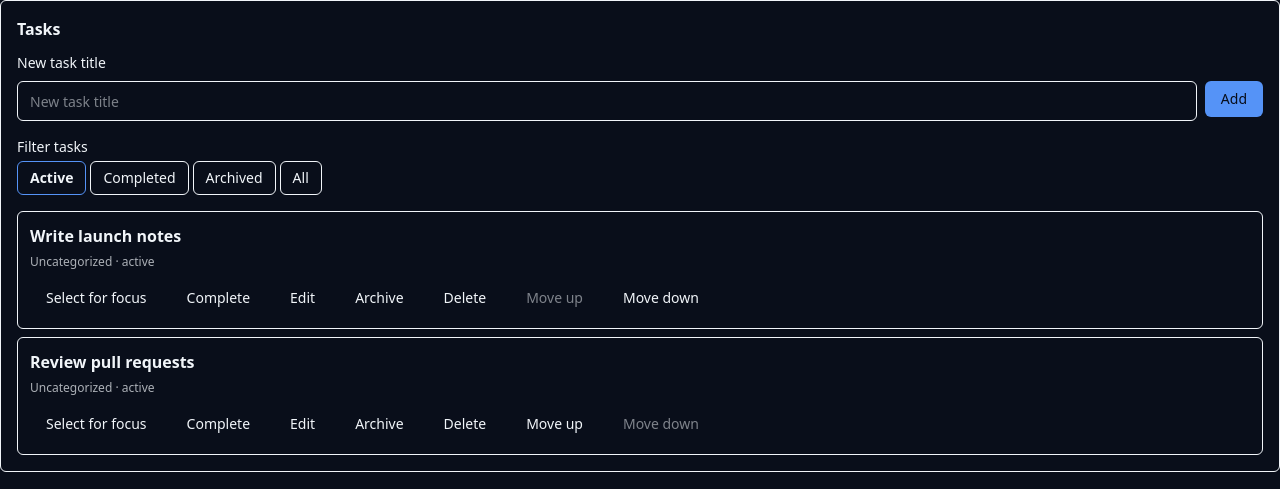
it: <TaskPanel /> row actions (slice 4) › deletes only after an explicit inline confirm
Expected: the list item "Write launch notes" is shown, x1=30 y1=225 x2=181 y2=247
Step 1. Click the button "Delete" below "Write launch notes" → (465, 298), box x1=428 y1=280 x2=502 y2=316
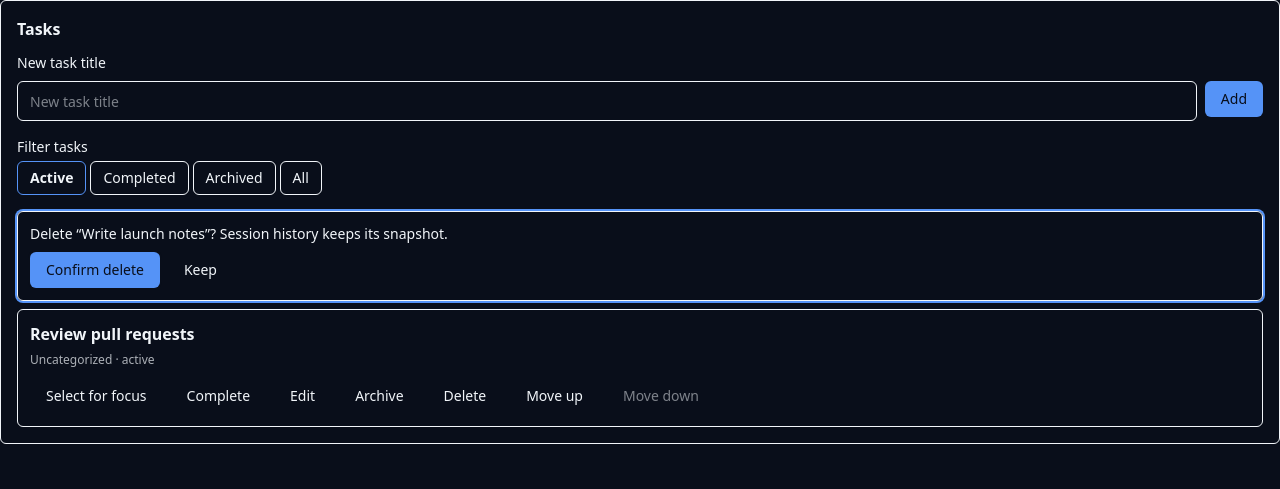
Step 2. Click the button "Confirm delete" → (95, 270), box x1=30 y1=252 x2=160 y2=288
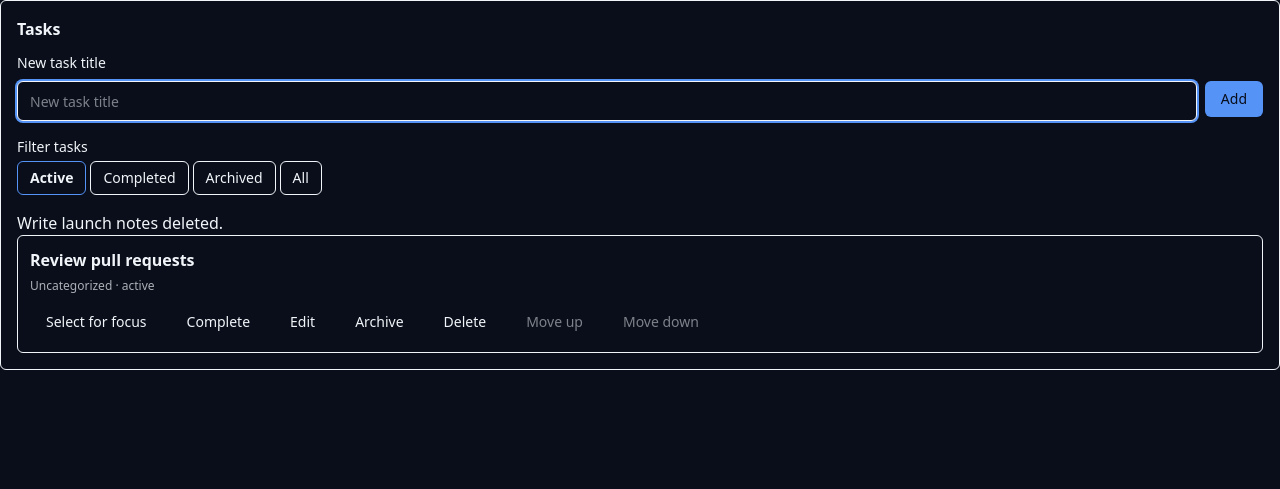
Result: the message shows "deleted" at x1=17 y1=212 x2=223 y2=234
